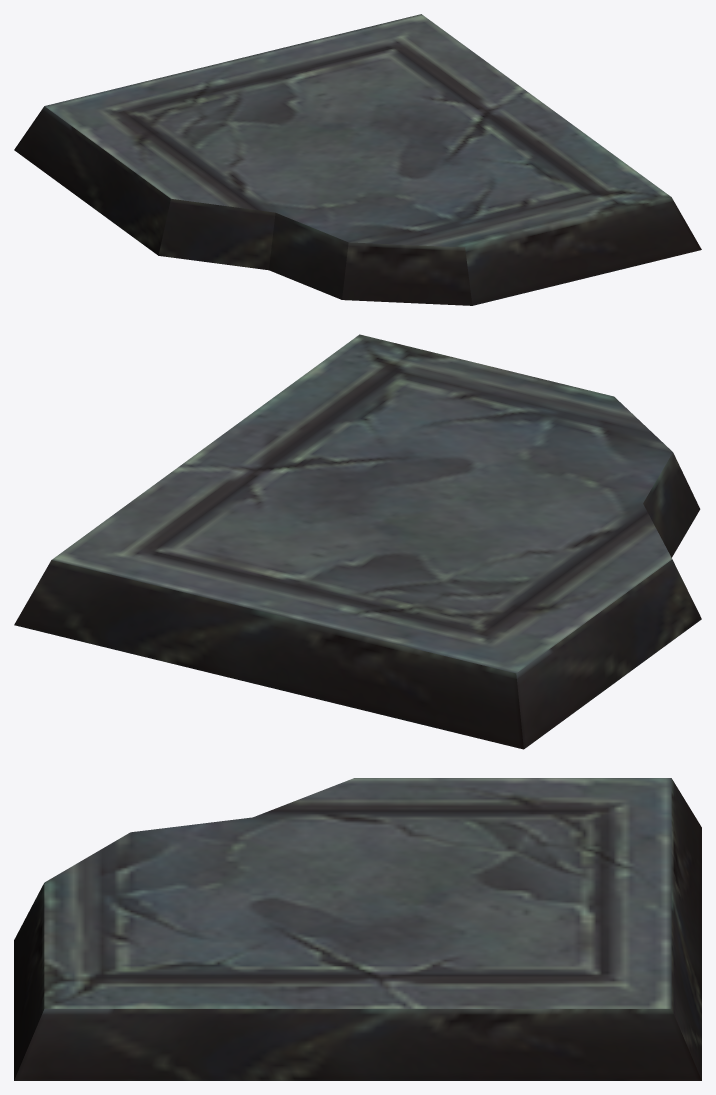
File: B_shizhuan005.fbx
3 renders of one model, top to bottom at view 1: azimuth 30°, elevation 25°; view 2: azimuth 150°, elevation 25°; view 3: azimuth 270°, elevation 25°, orthographic. The views are drawn at different scales.
Parts seen in each view (by area): view 1: B_shizhuan005; view 2: B_shizhuan005; view 3: B_shizhuan005.
Boxes of the visible parts, x1,y1,x2,y2 form: B_shizhuan005: (14,14,701,305); B_shizhuan005: (14,334,701,749); B_shizhuan005: (14,778,701,1080).
Size of the model in its own units: 91.73 by 10.26 by 105.
